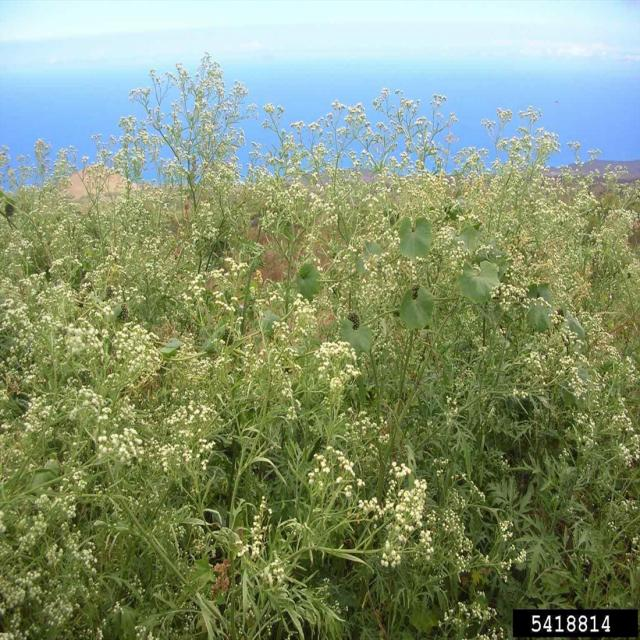Poisonous-Parthenium: (0, 398, 521, 640), (327, 82, 640, 391), (130, 53, 316, 398)
